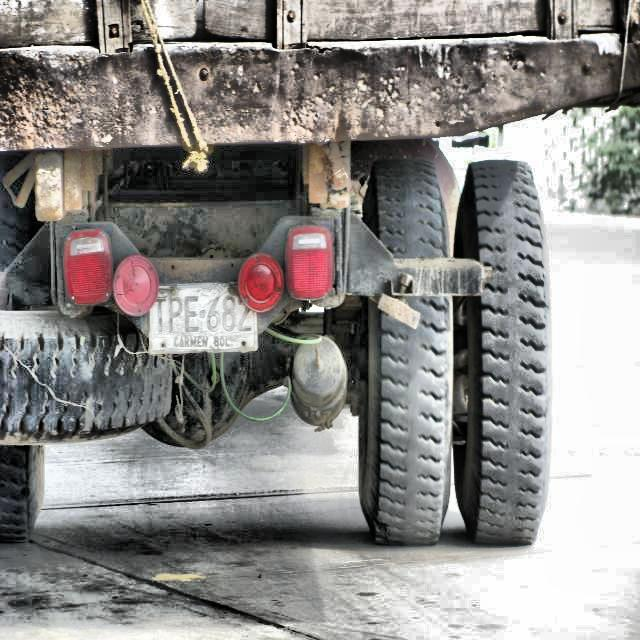plate: (149, 283, 258, 354)
